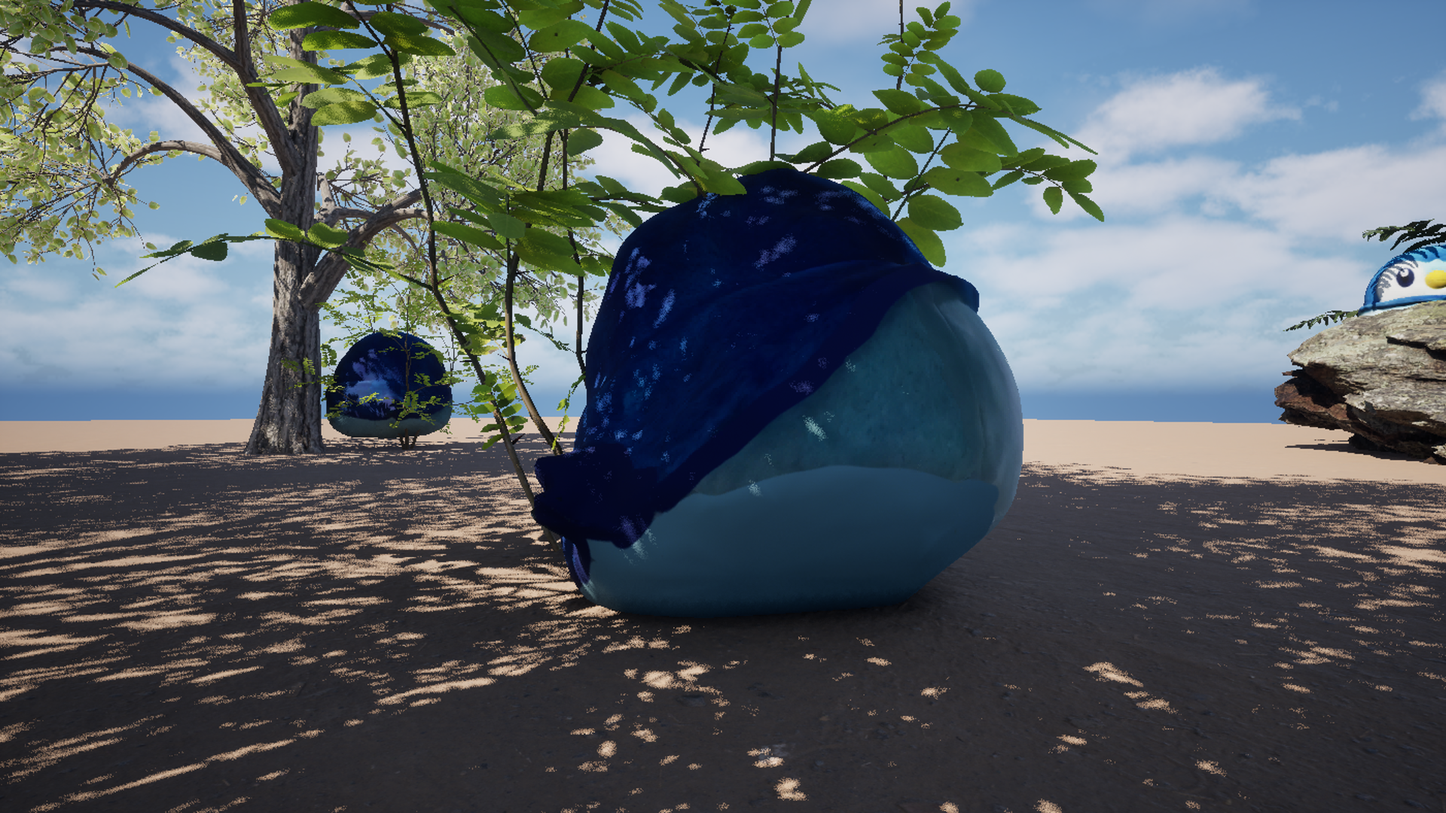Piplup: (443, 0, 1181, 813)
